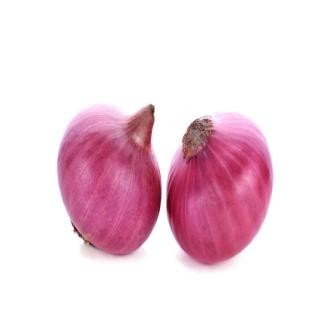Bawang Merah: (165, 110, 277, 270), (56, 101, 165, 261)
